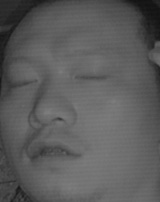blink: (73, 67, 109, 88), (8, 73, 39, 94)
mouth: (24, 133, 85, 170)
